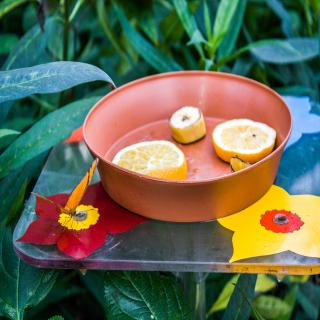Lemon: (213, 117, 278, 163), (168, 105, 206, 141)
Orange: (112, 141, 186, 181), (210, 118, 278, 155)
